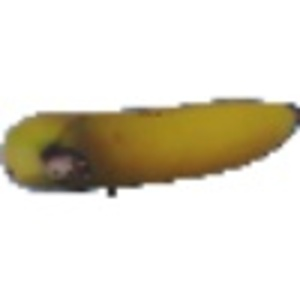banana: (3, 94, 297, 191)
